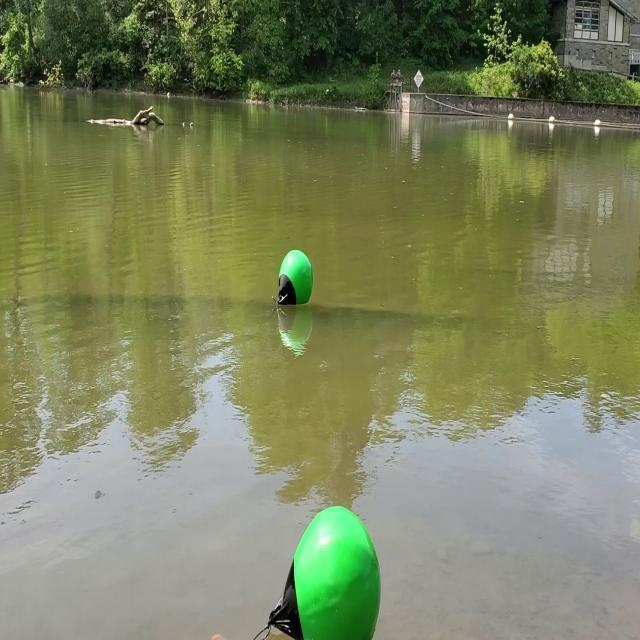buoy: (269, 504, 382, 640), (279, 246, 314, 306)
